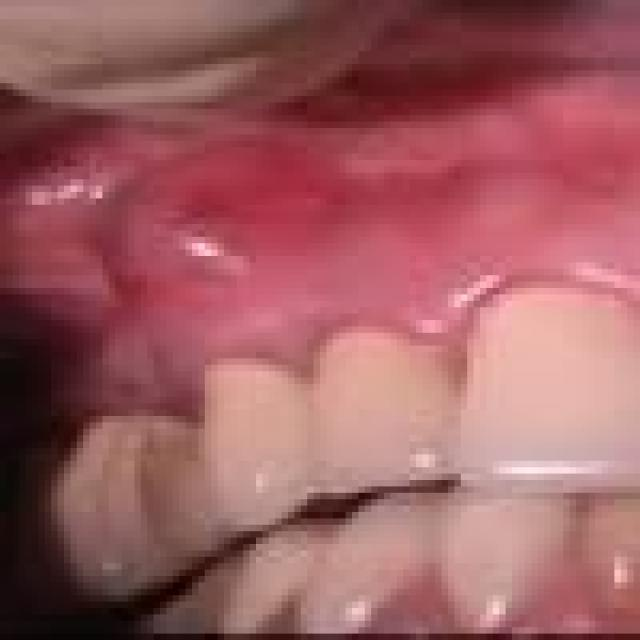abscess: (56, 133, 347, 313)
